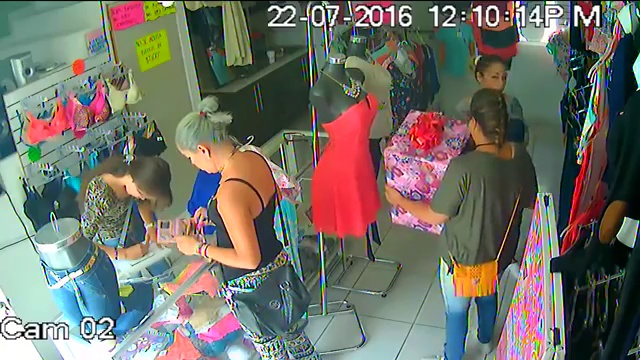face: (480, 57, 509, 89)
